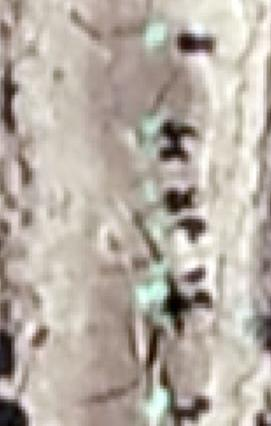cotton: (139, 282, 172, 310), (141, 113, 161, 155), (144, 385, 171, 416), (146, 22, 171, 49), (144, 184, 162, 205), (148, 218, 167, 237), (150, 263, 169, 276)
